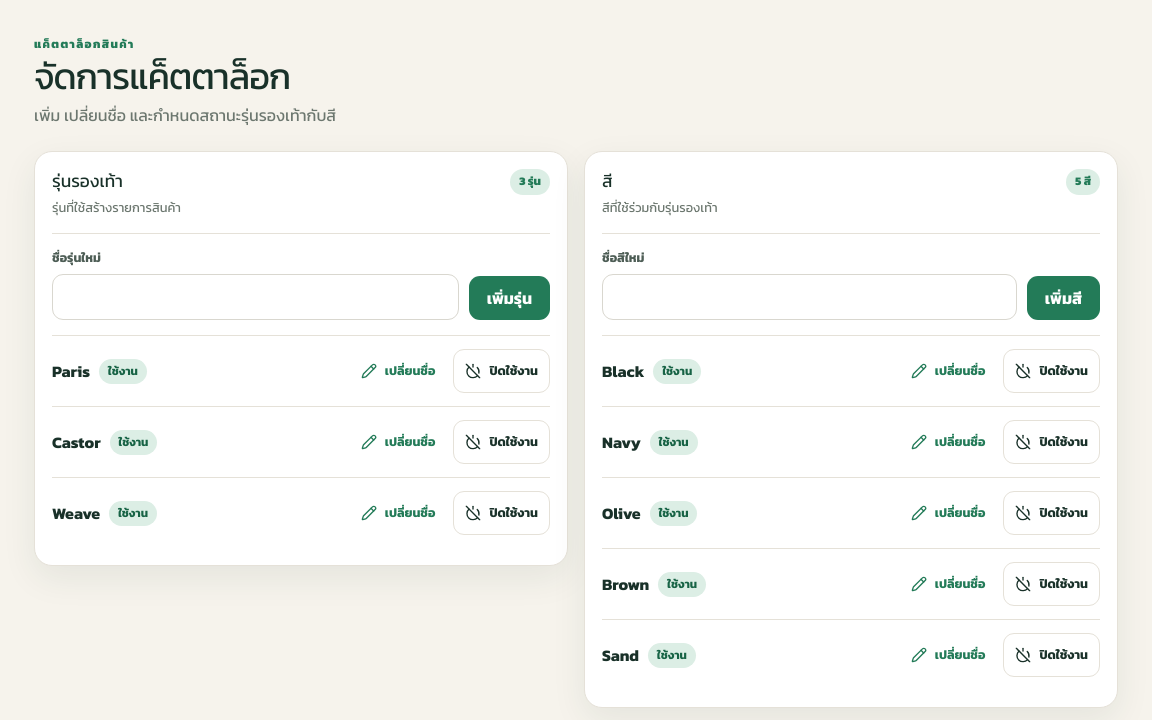
Test: CatalogPage › renames a color and reports a duplicate color in Thai
Expected: the text "Black" is shown, top-left (602, 359), bottom-right (644, 383)
Click the button with aria-label "เปลี่ยนชื่อสี Navy" at x=948, y=442, box top-left (899, 420), bottom-right (997, 464)
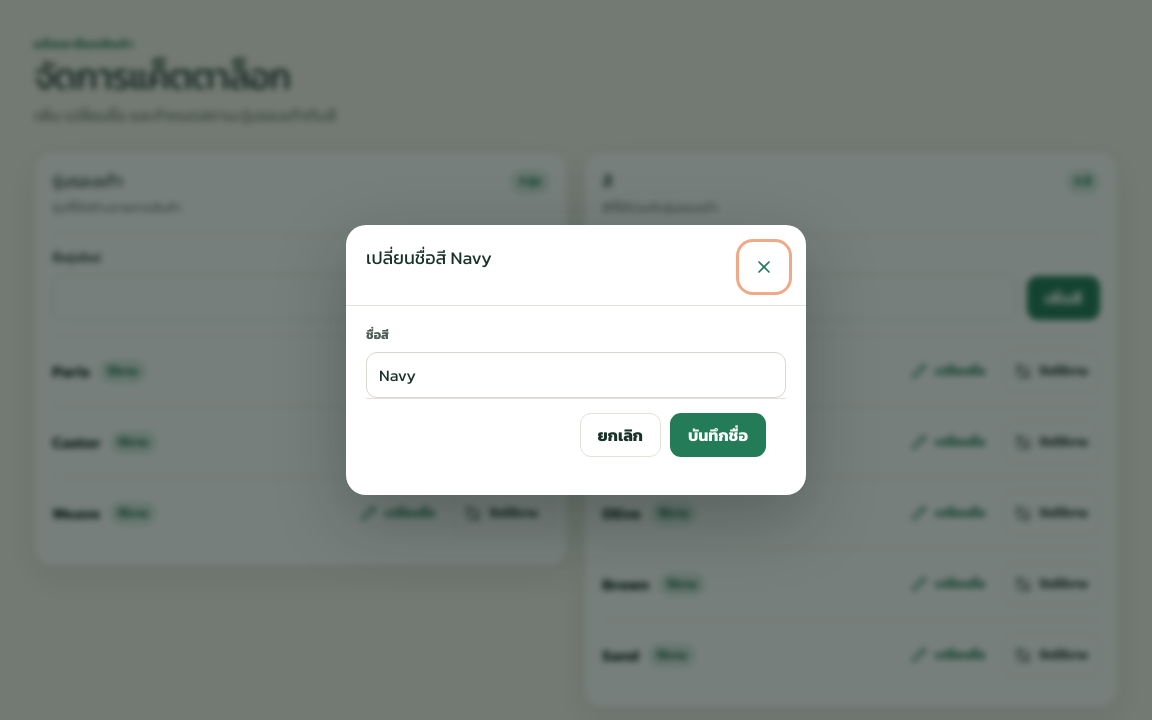
Replace the text in the field labelled "ชื่อสี" with " Midnight " at x=576, y=375, box top-left (367, 353), bottom-right (785, 397)
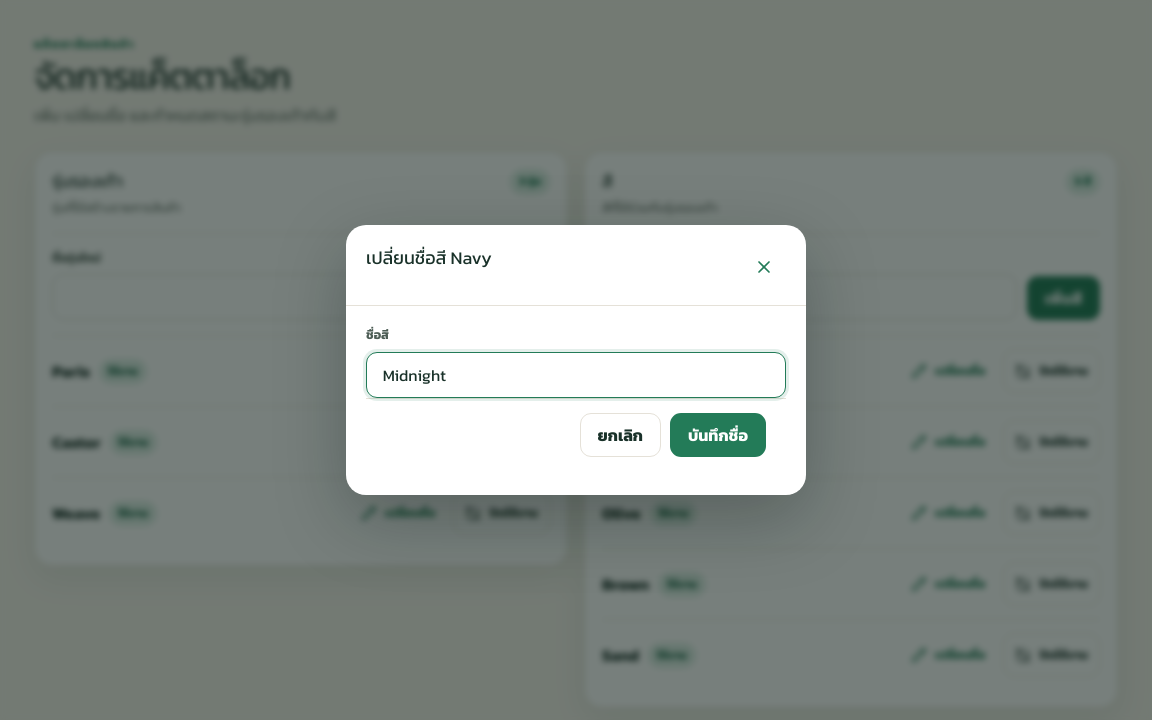
Click the button "บันทึกชื่อ" at x=718, y=435, box top-left (670, 413), bottom-right (766, 457)
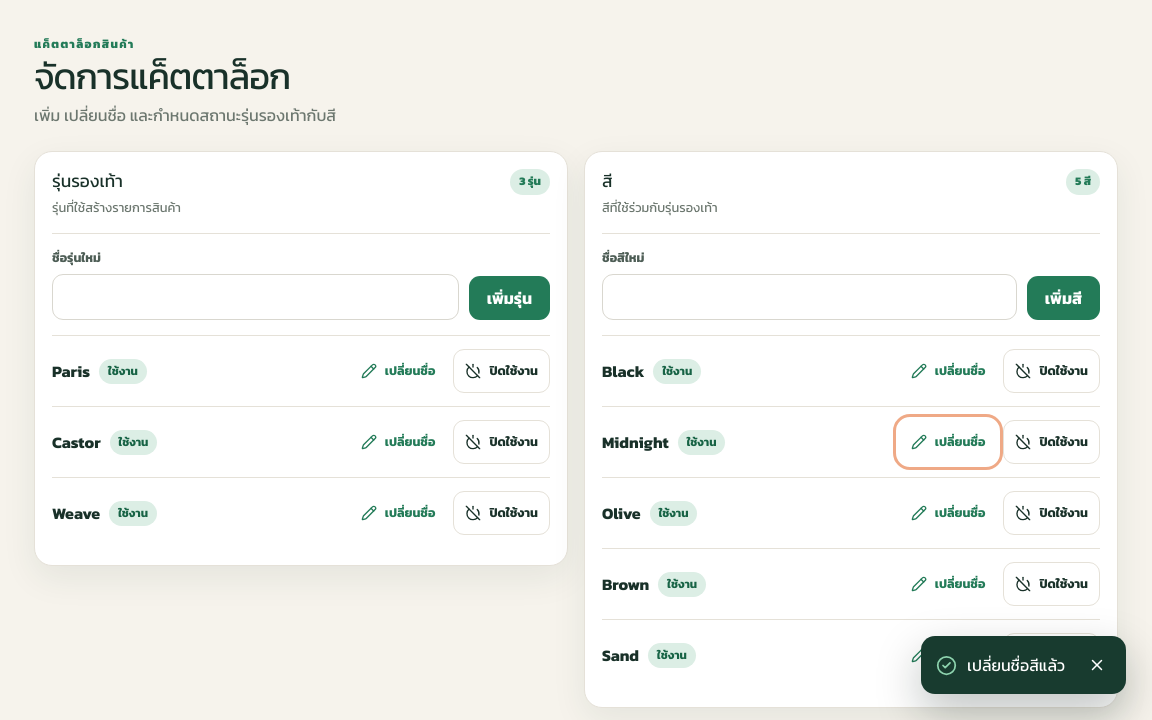
Result: the text "Midnight" is shown at top-left (602, 430), bottom-right (669, 454)
Type "black" into the field labelled "ชื่อสีใหม่" at x=809, y=297, box top-left (603, 275), bottom-right (1016, 319)
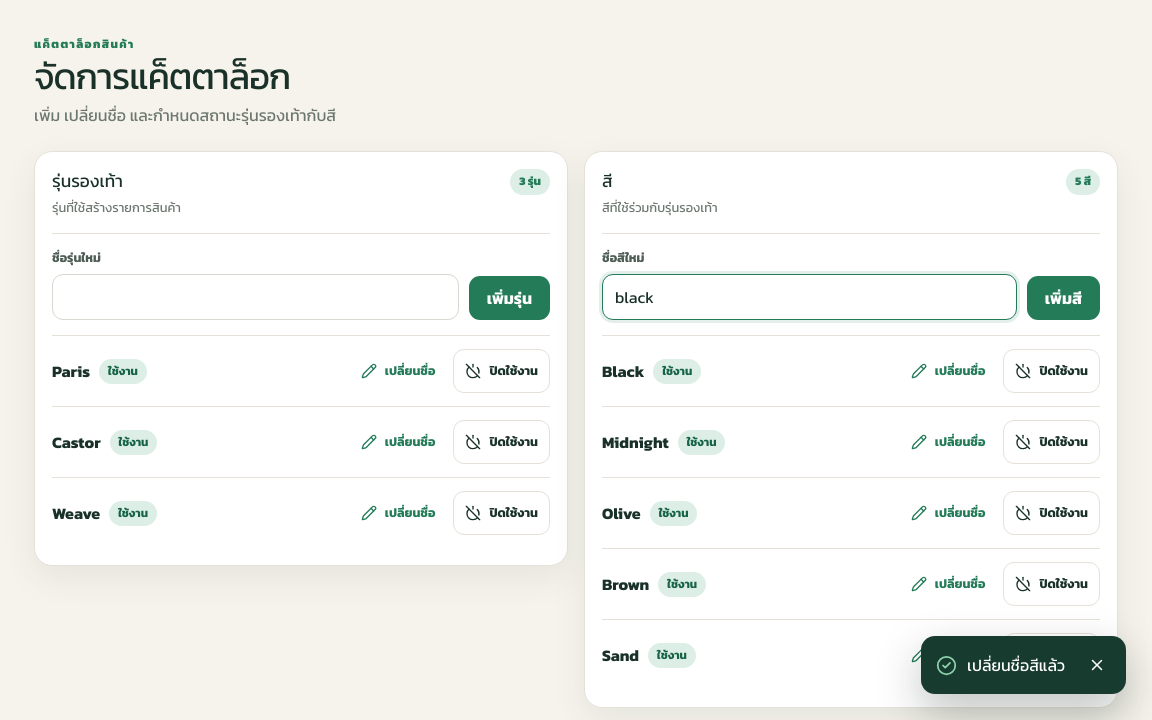
Click the button "เพิ่มสี" at x=1063, y=298, box top-left (1027, 276), bottom-right (1100, 320)
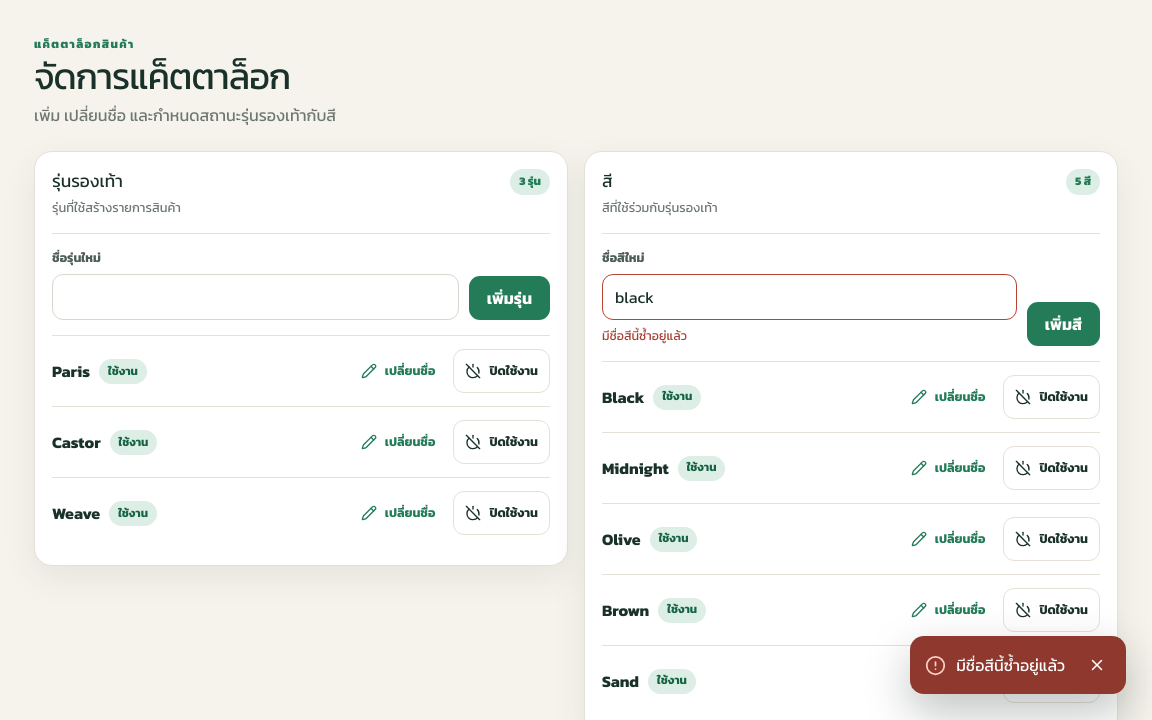
Result: the message named "เกิดข้อผิดพลาด" reads "มีชื่อสีนี้ซ้ำอยู่แล้ว" at top-left (956, 653), bottom-right (1065, 677)
